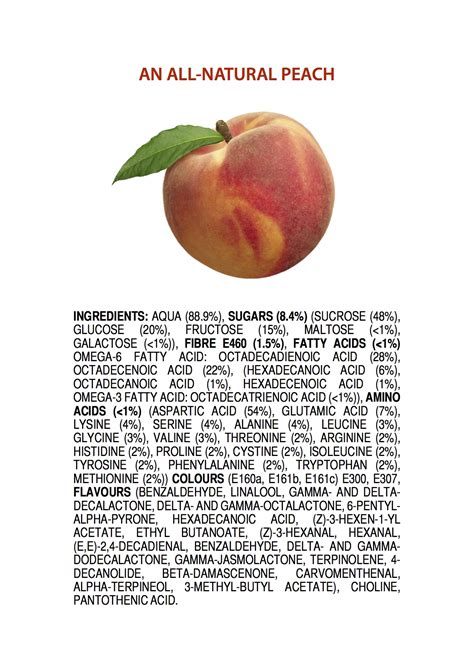apple: (162, 108, 339, 285)
